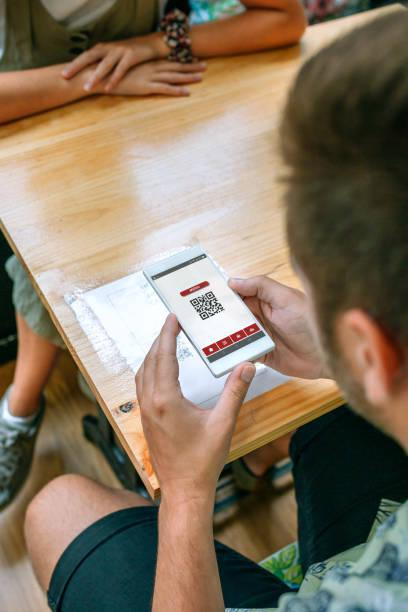Finder pattern: (187, 296, 203, 308), (204, 289, 216, 302), (199, 311, 211, 322)
